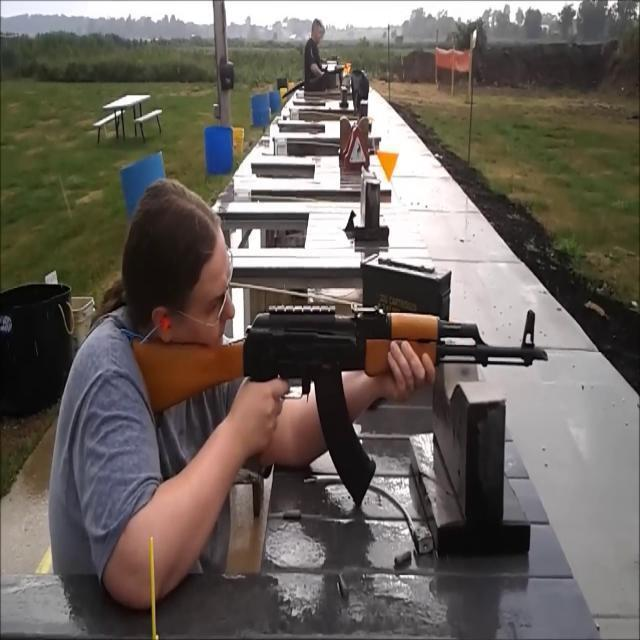Rifle: (101, 260, 558, 525)
